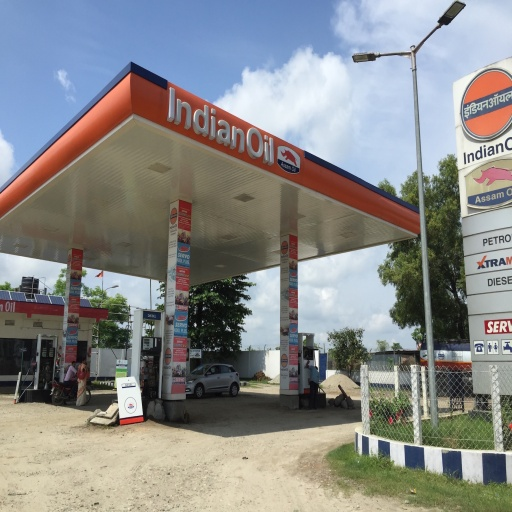roof: (3, 64, 422, 281)
